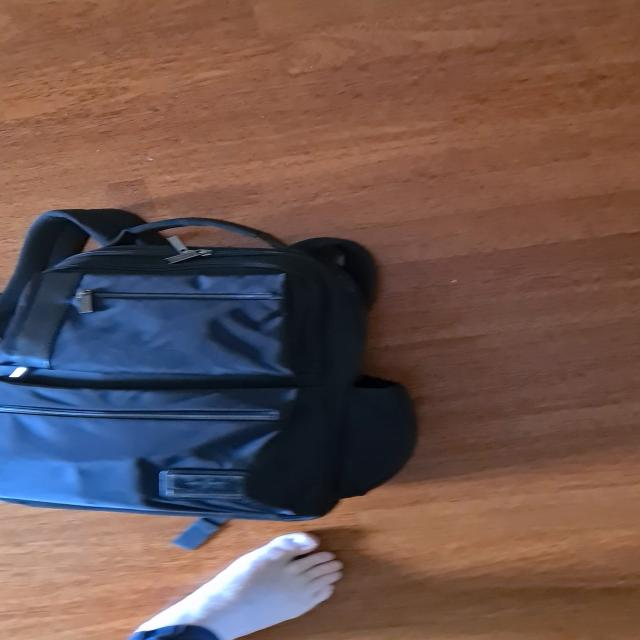backpack: (0, 201, 424, 523)
